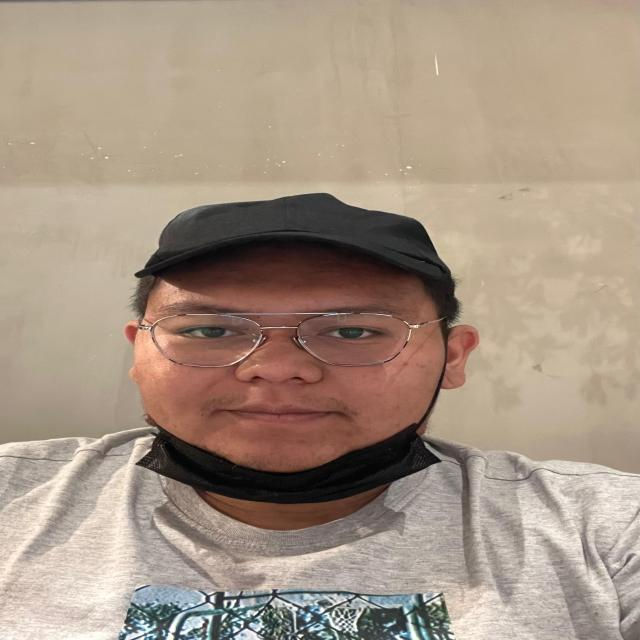3_gorra: (135, 191, 455, 279)
